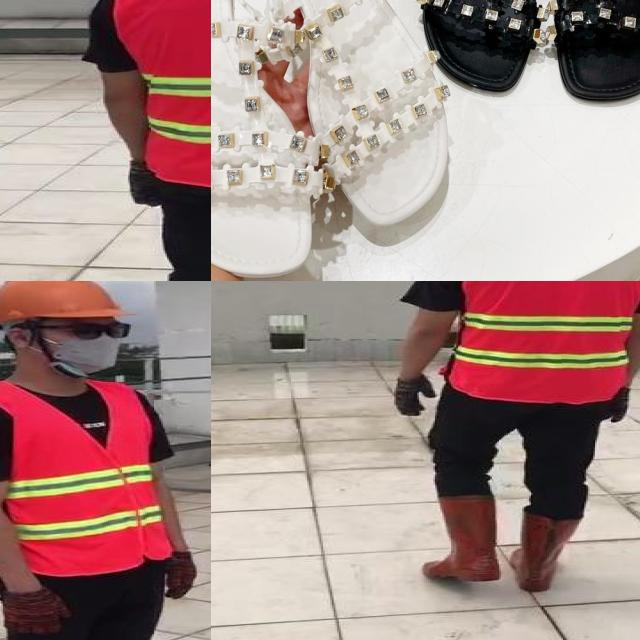Sandals: (211, 0, 480, 281), (399, 0, 640, 118)
boots: (422, 495, 500, 583), (512, 509, 586, 594)
face_mask: (45, 316, 130, 374)
glasses: (62, 315, 138, 344)
hand_glove: (0, 588, 75, 634), (128, 161, 163, 209), (394, 378, 437, 417), (168, 547, 197, 604), (600, 385, 632, 422)
head_helmet: (0, 281, 136, 329)
person: (379, 281, 640, 610), (0, 281, 211, 640), (80, 0, 211, 281)
vest: (0, 377, 171, 573), (450, 281, 640, 404), (113, 0, 211, 190)
